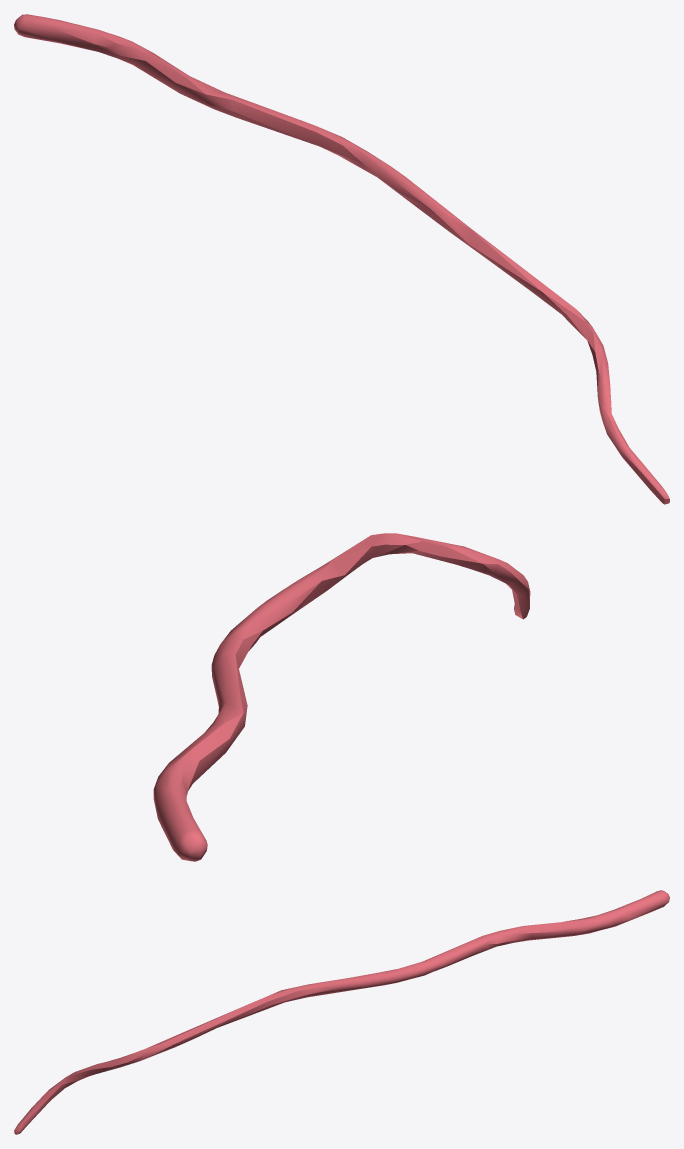
The model's file is fma14746_fj3621.glb.
The picture shows the model from 3 angles, top to bottom: view 1: azimuth 30°, elevation 25°; view 2: azimuth 150°, elevation 25°; view 3: azimuth 270°, elevation 25°; orthographic projection. The views are drawn at different scales.
Parts seen in each view (by area): view 1: FMA14746_FJ3621; view 2: FMA14746_FJ3621; view 3: FMA14746_FJ3621.
Boxes of the visible parts, left/top/right/bottom form: FMA14746_FJ3621: left=14, top=14, right=669, bottom=504; FMA14746_FJ3621: left=153, top=533, right=530, bottom=861; FMA14746_FJ3621: left=14, top=890, right=669, bottom=1134.
Bounding box in the file's own units: 0.0222 × 0.0206 × 0.0732.
